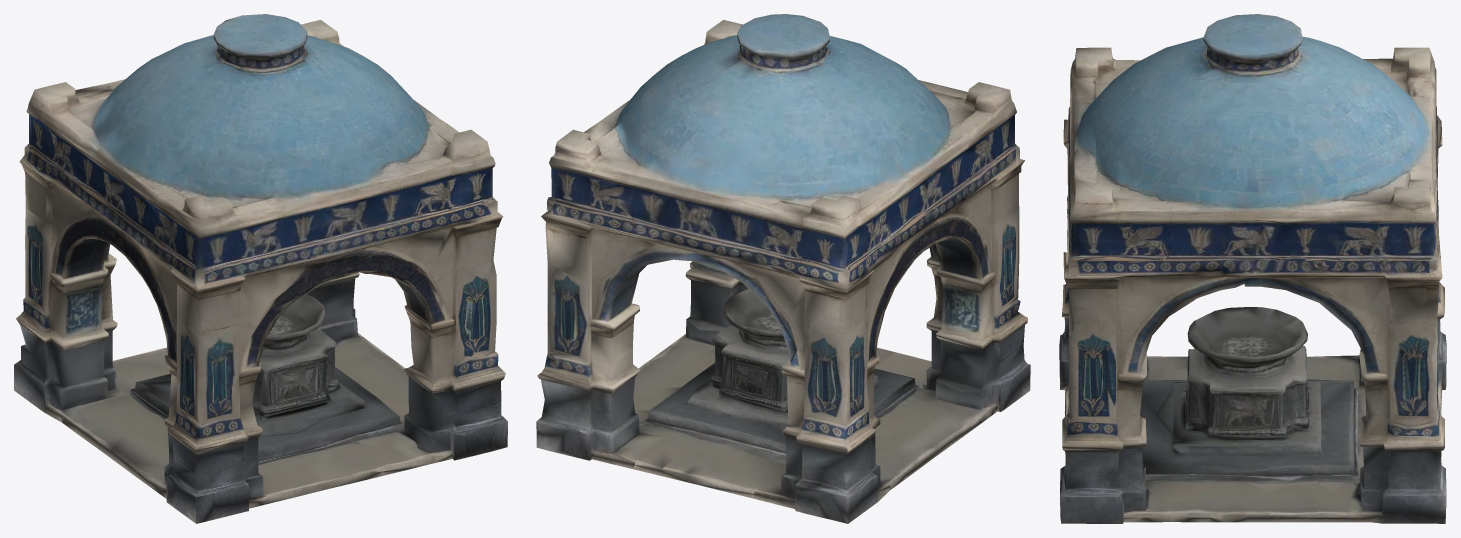
Rendered from shrine_1.glb.
3 views of the same model, side by side, from view 1: azimuth 30°, elevation 25°; view 2: azimuth 150°, elevation 25°; view 3: azimuth 270°, elevation 25° (orthographic). The views are drawn at different scales.
Parts seen in each view (by area): view 1: tripo_node_44c1e57b-612e-4c2b-ab19-846b2a3ec241; view 2: tripo_node_44c1e57b-612e-4c2b-ab19-846b2a3ec241; view 3: tripo_node_44c1e57b-612e-4c2b-ab19-846b2a3ec241.
Part boxes in pixels (x1,y1,x2,y2): tripo_node_44c1e57b-612e-4c2b-ab19-846b2a3ec241: [14, 14, 507, 523]; tripo_node_44c1e57b-612e-4c2b-ab19-846b2a3ec241: [536, 14, 1030, 523]; tripo_node_44c1e57b-612e-4c2b-ab19-846b2a3ec241: [1059, 14, 1446, 523].
Bounding box in the file's own units: 0.8297 × 0.9788 × 0.841.
1 material, 1 textured.
